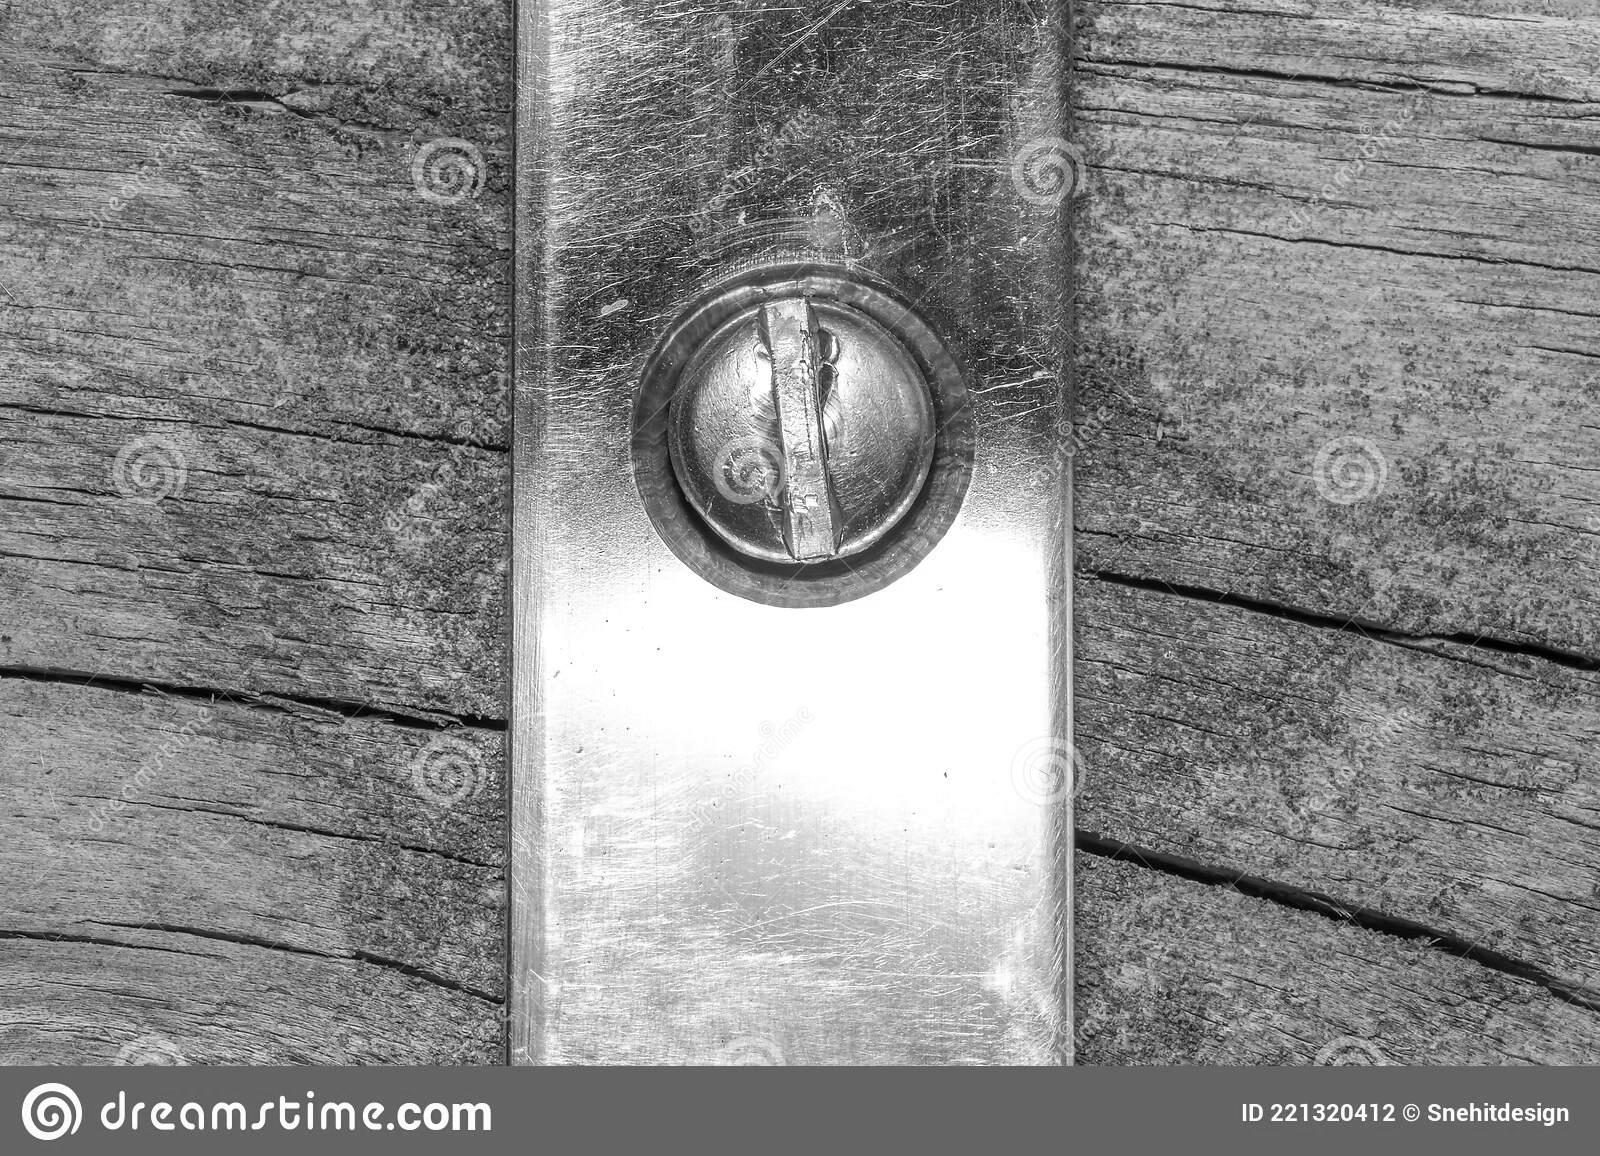slotted: (678, 296, 945, 579)
